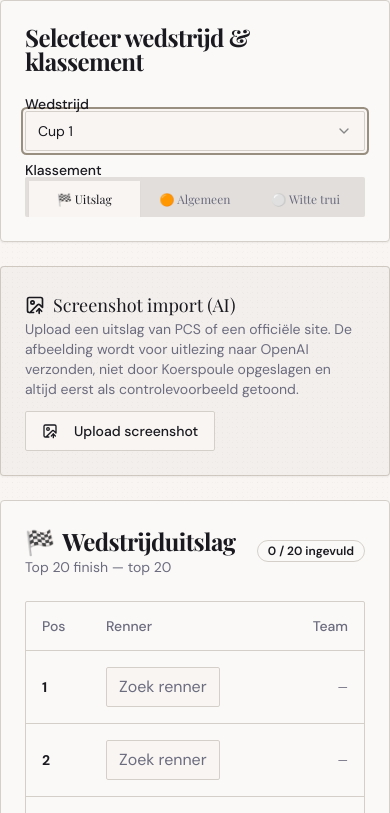
it: ResultsTab › Meermarathon: geen import van wielersites, wel de screenshot-import
The image size is (390, 813).
Earlier steps of the test are not shown.
Expected: the file field with test id "import-screenshot-btn" is shown, [25,411,215,451]
Press the mouse on the tab "🟠 Algemeen" at point(195, 199), box [140,181,250,217]
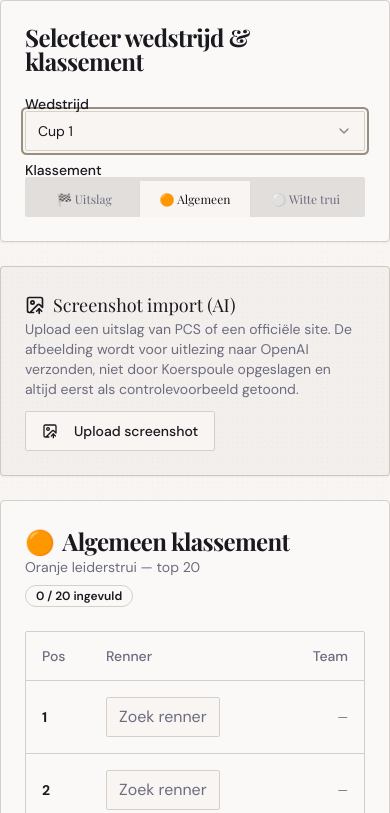
Expected: the heading "🟠 Algemeen klassement" is shown, [25,525,289,557]
Expected: the text "Oranje leiderstrui — top 20" is shown, [25,558,200,576]
